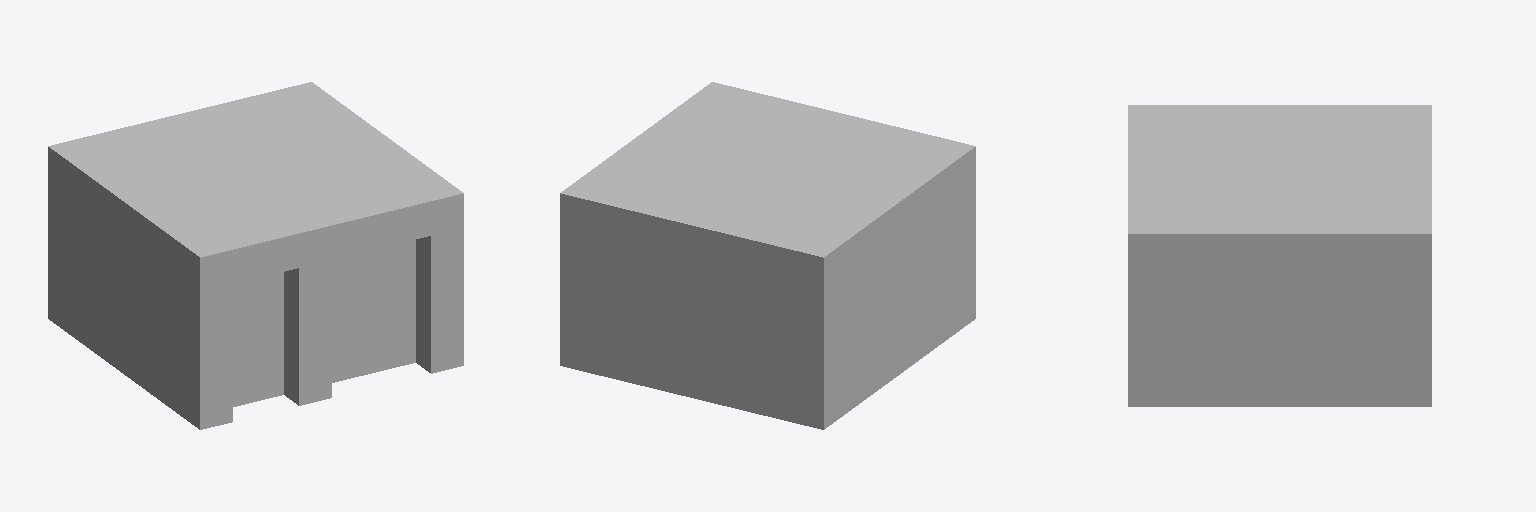
The model's file is building-door-window.obj.
The picture shows the model from 3 angles: view 1: azimuth 30°, elevation 25°; view 2: azimuth 150°, elevation 25°; view 3: azimuth 270°, elevation 25°; orthographic projection.
Parts seen in each view (by area): view 1: building-door-window; view 2: building-door-window; view 3: building-door-window.
Part boxes in pixels (x1,y1,x2,y2): building-door-window: (48, 82, 463, 429); building-door-window: (560, 82, 975, 429); building-door-window: (1128, 105, 1431, 406).
Bounding box in the file's own units: 1 × 0.625 × 1.